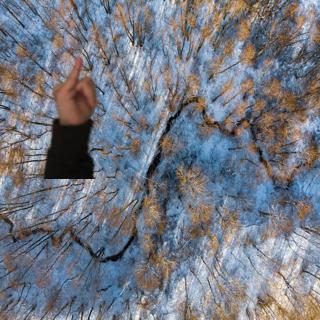HAVE: (51, 53, 106, 127)
